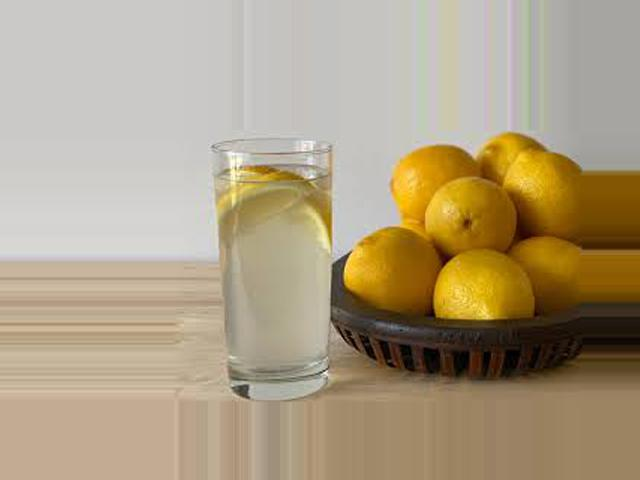lemon: (494, 139, 584, 246)
